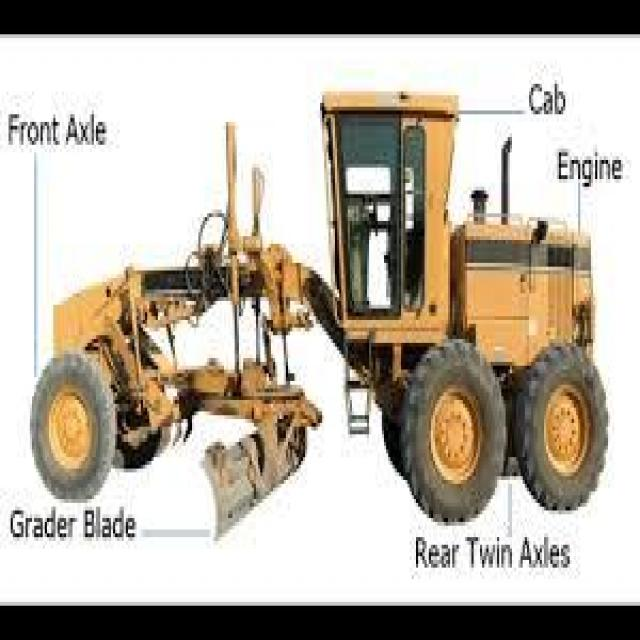Grader: (17, 61, 604, 560)
